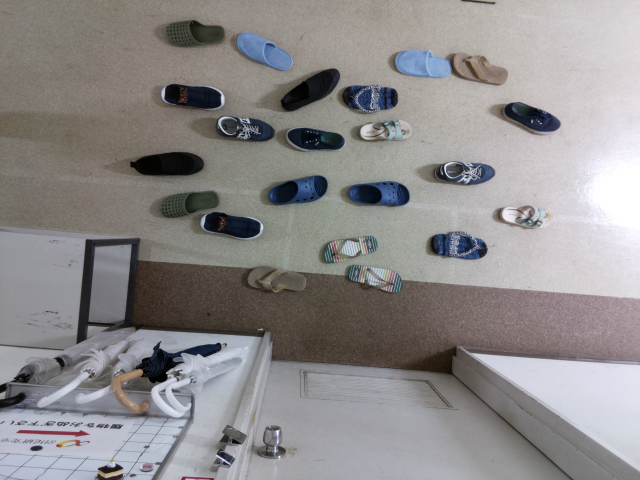Copy of Copy of Copy of Copy of Copy of Copy of Copy of Copy of Copy of Copy of: (493, 97, 569, 140), (385, 43, 459, 84), (441, 48, 515, 88), (276, 119, 351, 158), (335, 80, 410, 119), (341, 171, 414, 210), (428, 154, 501, 193), (313, 228, 385, 267), (337, 261, 409, 300), (422, 226, 494, 265), (490, 198, 562, 237), (350, 112, 421, 148)
Copy of Copy of Copy of Copy of Copy of Copy of Copy of Copy of Copy of shoe: (271, 63, 343, 114)
Copy of Copy of Copy of Copy of Copy of Copy of Copy of Copy of shoe: (210, 109, 284, 145)
Copy of Copy of Copy of Copy of Copy of Copy of Copy of shoe: (258, 170, 338, 209)
Copy of Copy of Copy of Copy of Copy of Copy of shoe: (236, 260, 316, 299)
Copy of Copy of Copy of Copy of Copy of shoe: (1, 319, 137, 414), (191, 206, 271, 245)
Copy of Copy of Copy of Copy of shoe: (30, 322, 152, 413), (148, 185, 228, 224)
Copy of Copy of Copy of shoe: (68, 324, 150, 415), (124, 143, 212, 181)
Copy of Copy of shoe: (106, 338, 229, 419), (155, 75, 229, 113)
Copy of shoe: (162, 345, 260, 421), (230, 27, 300, 74)
shoe: (150, 331, 259, 421), (156, 13, 231, 55)
